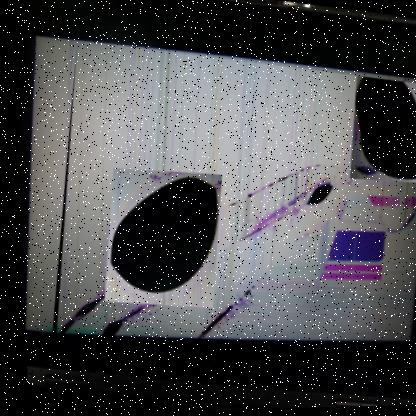crack: (29, 32, 415, 391)
spot: (87, 168, 225, 322), (335, 84, 415, 212), (288, 192, 334, 236)
